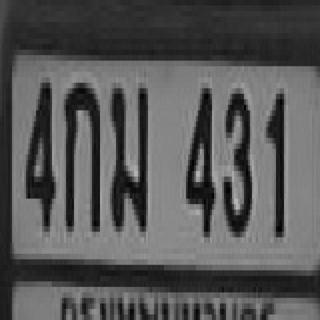A01: (62, 77, 98, 226)
A33: (110, 77, 146, 226)
N01: (264, 88, 282, 232)
N03: (222, 83, 250, 232)
N04: (184, 83, 212, 232), (25, 77, 53, 226)
